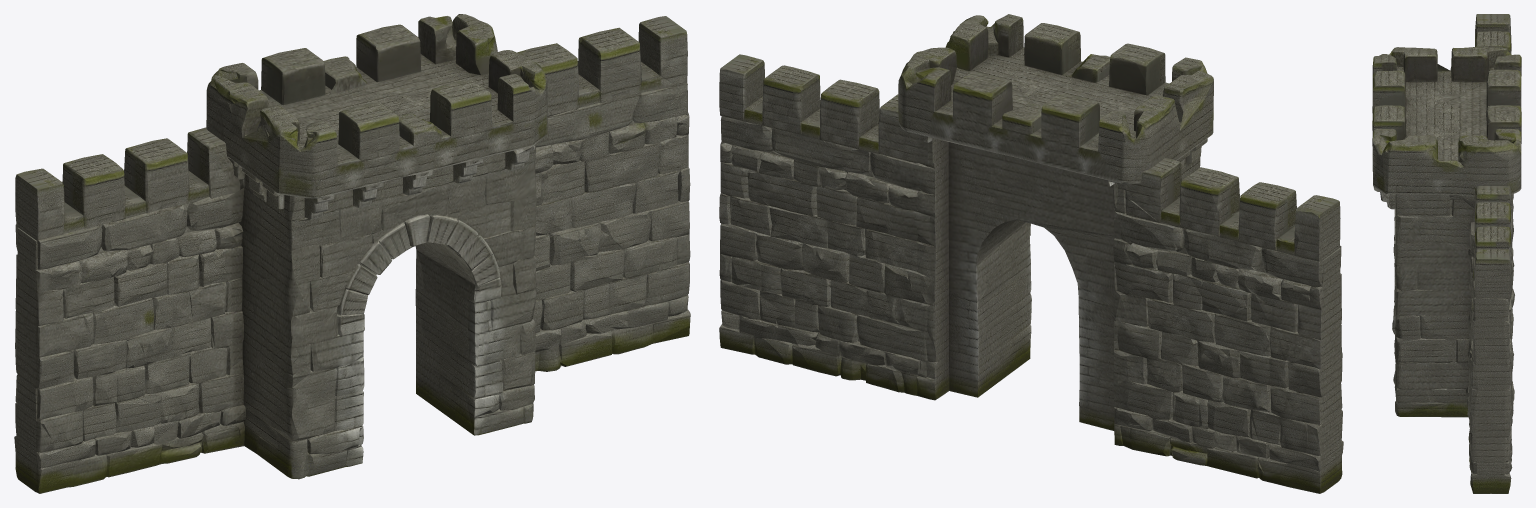
The model's file is wall_arch.glb.
3 renders of one model, left to right at view 1: azimuth 30°, elevation 25°; view 2: azimuth 150°, elevation 25°; view 3: azimuth 270°, elevation 25°, orthographic. The views are drawn at different scales.
Bounding box in the file's own units: 1.9 × 0.9906 × 0.4886.
Materials: 1 (1 with a texture image).
